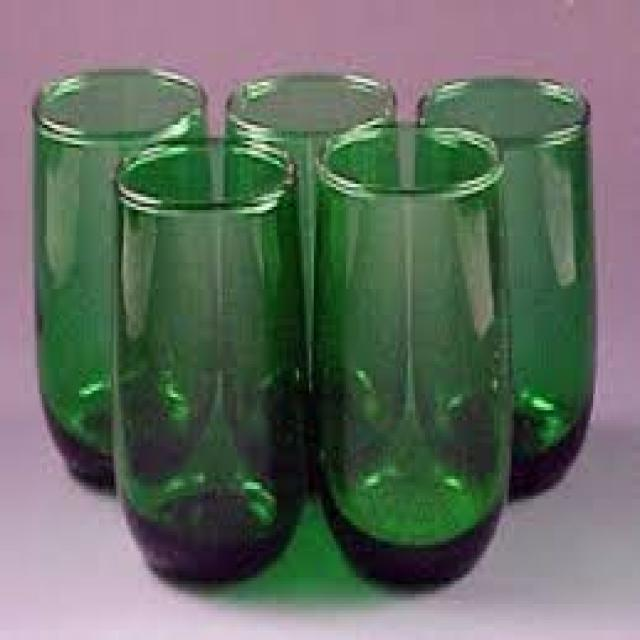glass: (306, 118, 509, 588), (112, 135, 307, 575), (415, 76, 593, 493), (222, 72, 403, 479), (32, 66, 210, 479)
